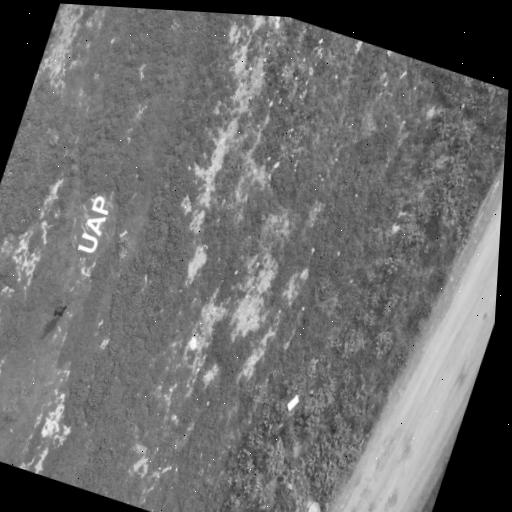person: (54, 305, 65, 317)
uap: (71, 191, 115, 258)
